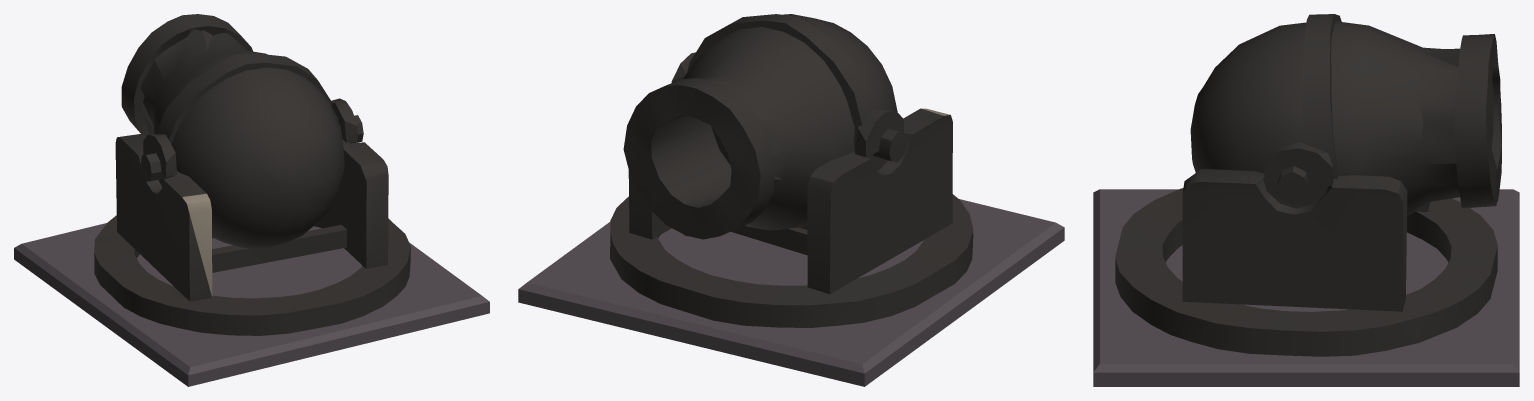
Rendered from cannon22b.glb.
3 views of the same model, side by side, from view 1: azimuth 30°, elevation 25°; view 2: azimuth 150°, elevation 25°; view 3: azimuth 270°, elevation 25° (orthographic). The views are drawn at different scales.
Parts seen in each view (by area): view 1: mount, barrel, plate; view 2: barrel, mount, plate; view 3: mount, barrel, plate.
Part boxes in pixels (x1,y1,x2,y2): mount: (94, 98, 410, 335); barrel: (121, 14, 344, 248); plate: (14, 223, 489, 386); barrel: (623, 14, 897, 239); mount: (610, 52, 973, 327); plate: (518, 199, 1064, 386); mount: (1115, 142, 1497, 356); barrel: (1190, 14, 1501, 215); plate: (1093, 189, 1519, 386).
Bounding box in the file's own units: 1.9 × 1.36 × 1.9.
